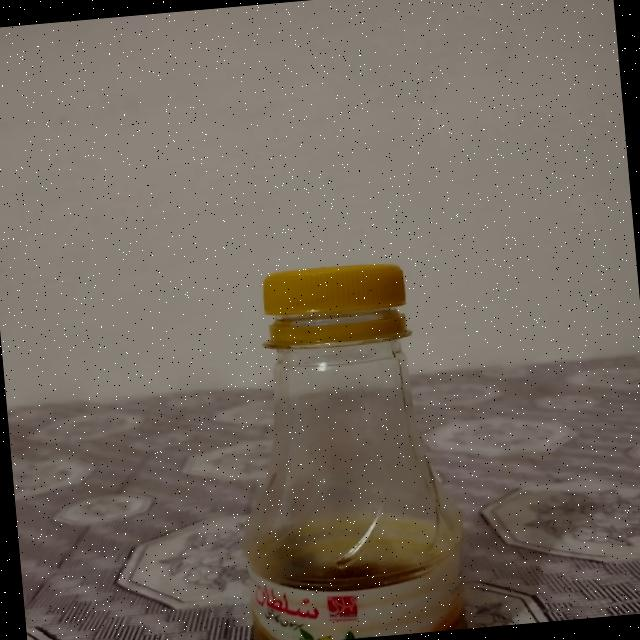bottle: (203, 234, 480, 640)
cap: (245, 252, 414, 360)
label: (239, 554, 469, 640)
